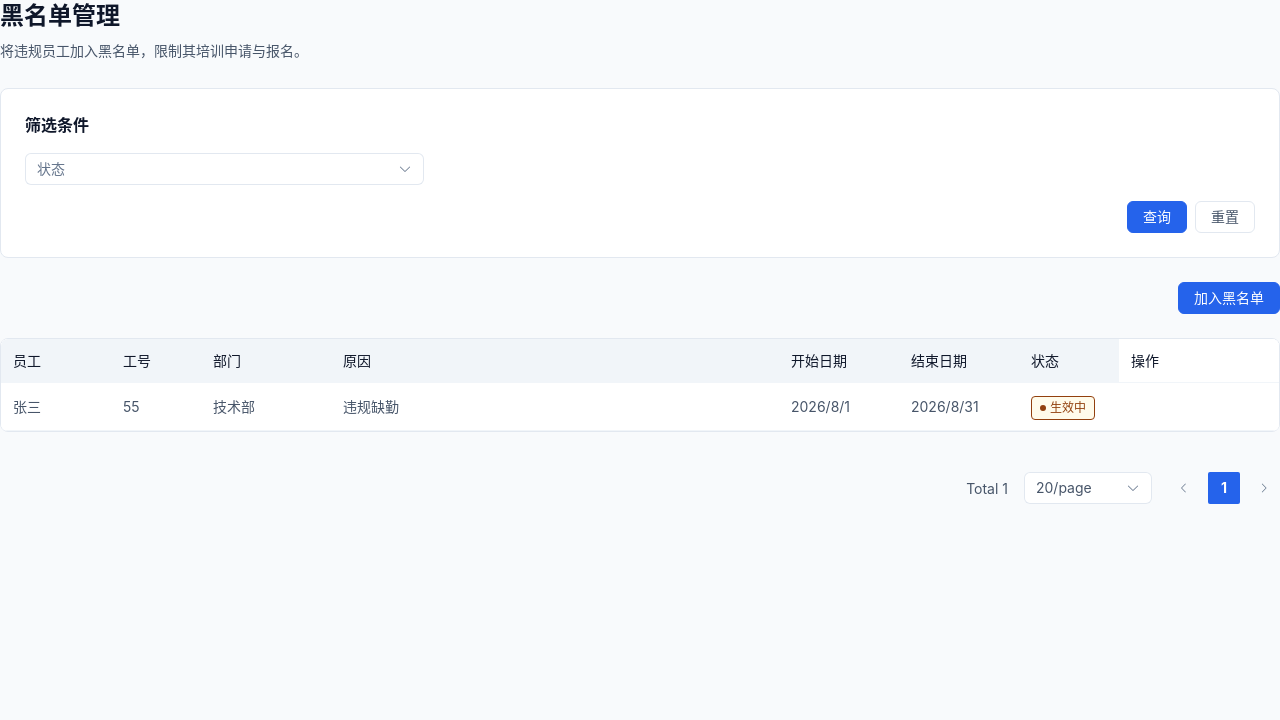
Test: 黑名单管理页面 › 「加入黑名单」对话框包含员工、原因、起止日期与操作按钮
AppButton 的根节点是 span，真正的点击监听在内层 el-button 上。
Click the button "加入黑名单": (1229, 298) [1178, 282, 1279, 314]
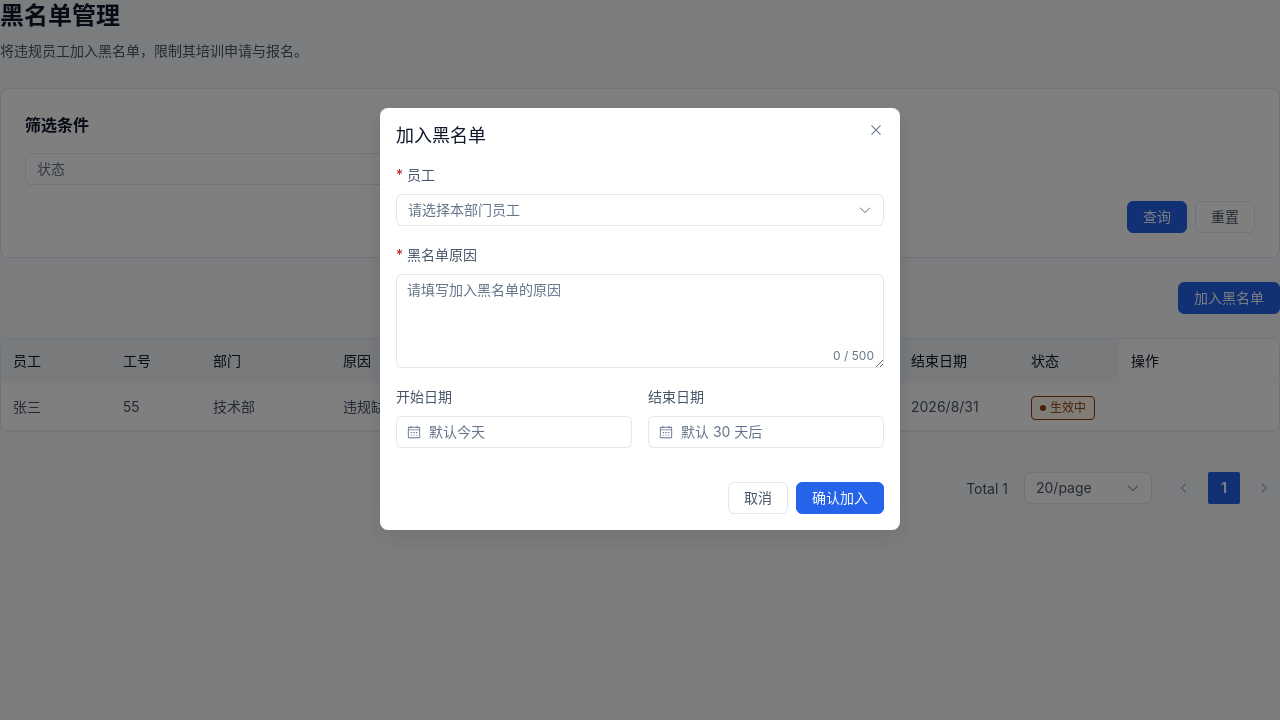
Check: the element showing "加入黑名单 员工 请选择本部门员工 黑名单原因 0 / 500 开始日期 结束日期 取消 确认加入" is shown, box [380, 108, 900, 530]
